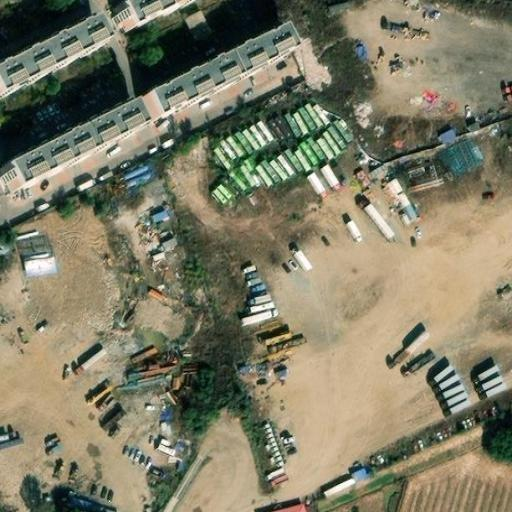building: (139, 29, 290, 122), (0, 107, 135, 192), (0, 18, 103, 94), (20, 251, 58, 278), (262, 503, 307, 512)
